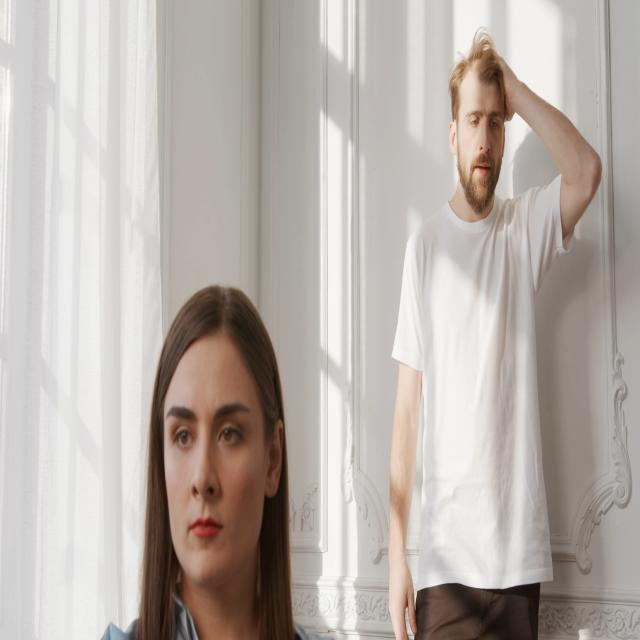confused: (437, 40, 520, 247)
sad: (156, 347, 288, 584)
